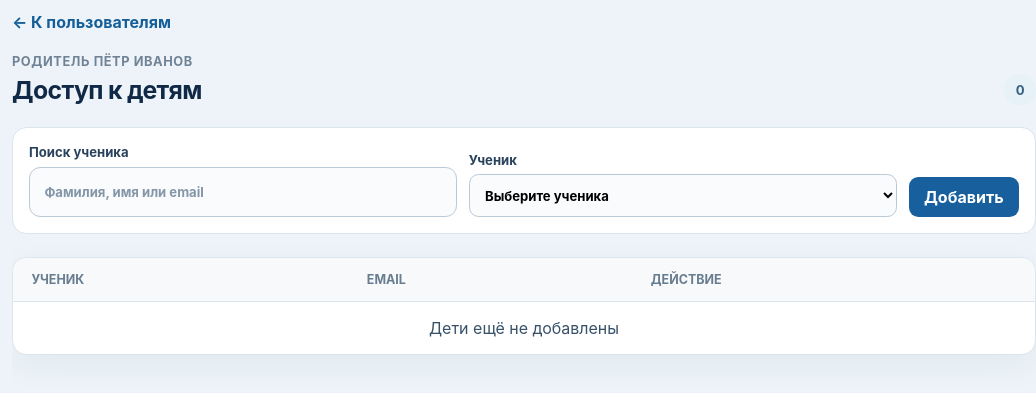
Test: adds and revokes a student
Select "Анна Иванова" in the dropdown named "Ученик для родителя": (683, 196) [469,174,897,217]
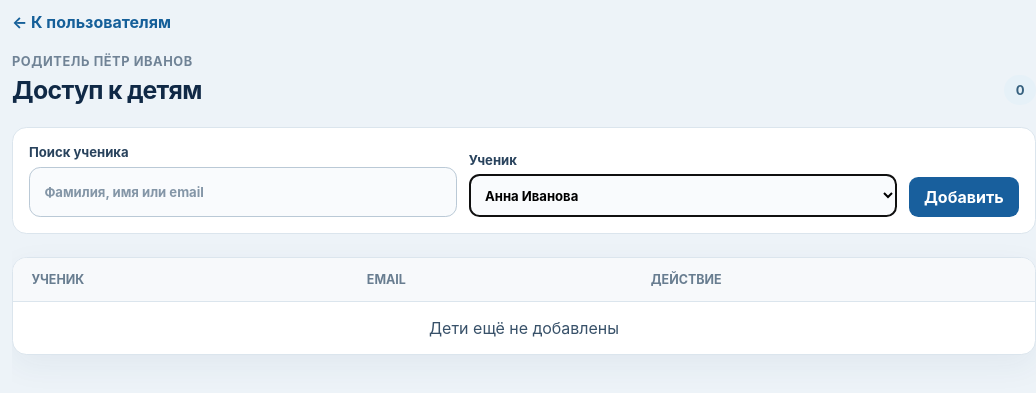
Click the button "Добавить": click(964, 197) [909,177,1019,217]
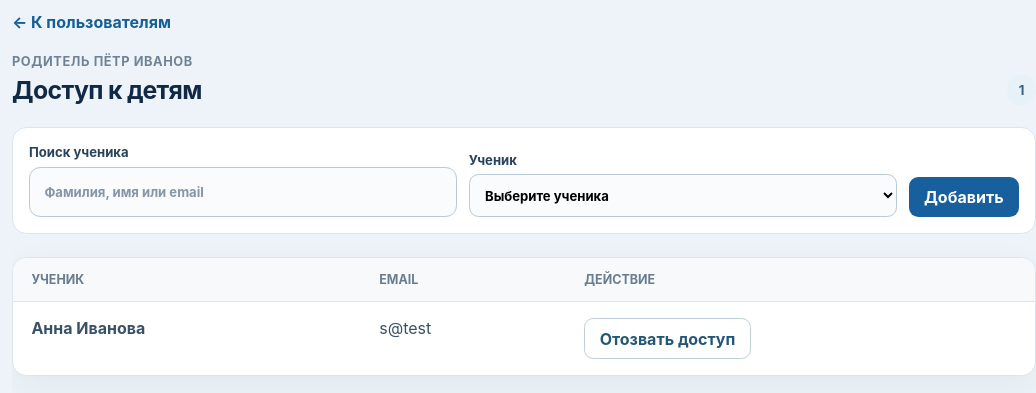
Result: the text "Анна Иванова" is shown at [31,318,145,338]
Click the button "Отозвать доступ": click(668, 339) [584,318,751,359]
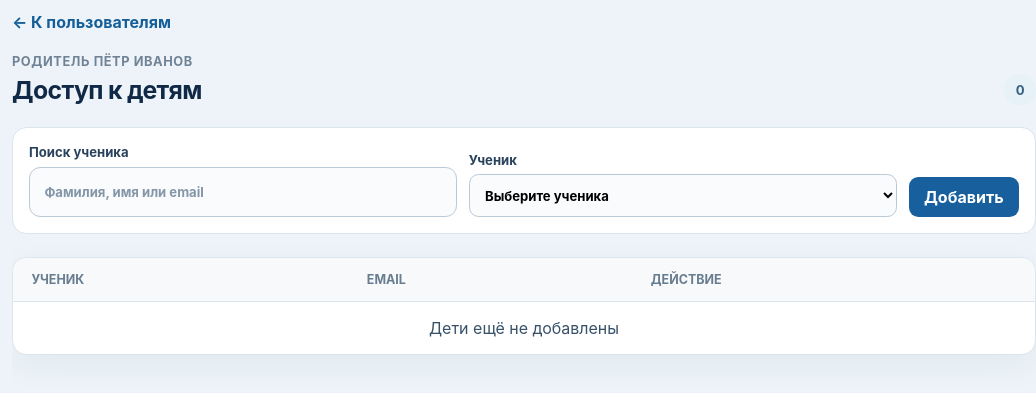
Result: the text "Дети ещё не добавлены" is shown at [13,302,1035,354]
